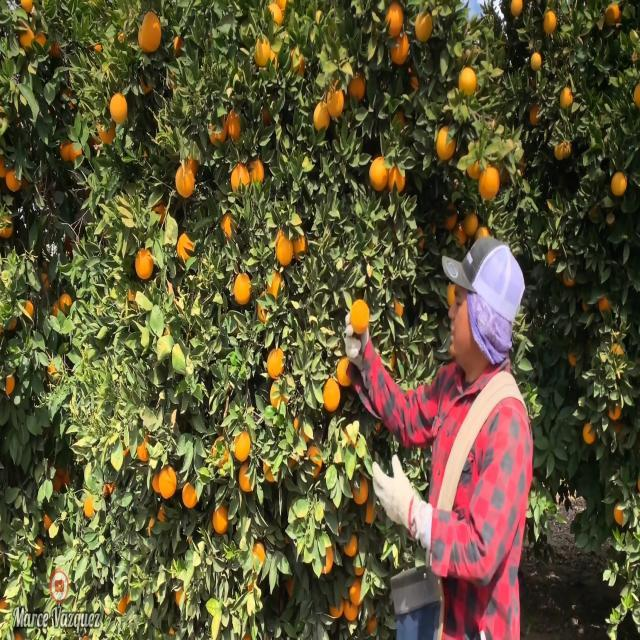Jeruk Sudah Matang: (155, 459, 181, 504), (368, 151, 394, 195), (135, 11, 165, 47), (264, 342, 287, 386), (132, 244, 160, 280), (434, 122, 458, 164), (324, 78, 346, 122), (320, 372, 342, 416), (348, 296, 372, 336), (477, 163, 501, 202), (386, 32, 412, 68), (174, 159, 194, 201), (382, 0, 406, 35), (228, 164, 252, 198), (230, 426, 254, 460), (178, 476, 200, 513), (412, 12, 437, 44), (109, 90, 132, 124), (456, 64, 478, 98), (550, 132, 574, 163), (232, 267, 252, 304), (334, 354, 354, 391), (349, 470, 369, 507), (312, 98, 331, 134), (211, 500, 230, 536), (316, 544, 336, 578), (346, 74, 368, 104), (276, 232, 294, 268), (246, 156, 266, 188), (5, 164, 25, 196), (608, 168, 628, 196), (342, 532, 358, 559), (528, 50, 544, 76), (558, 85, 576, 108), (604, 3, 624, 23), (505, 0, 528, 17), (542, 8, 558, 32)
